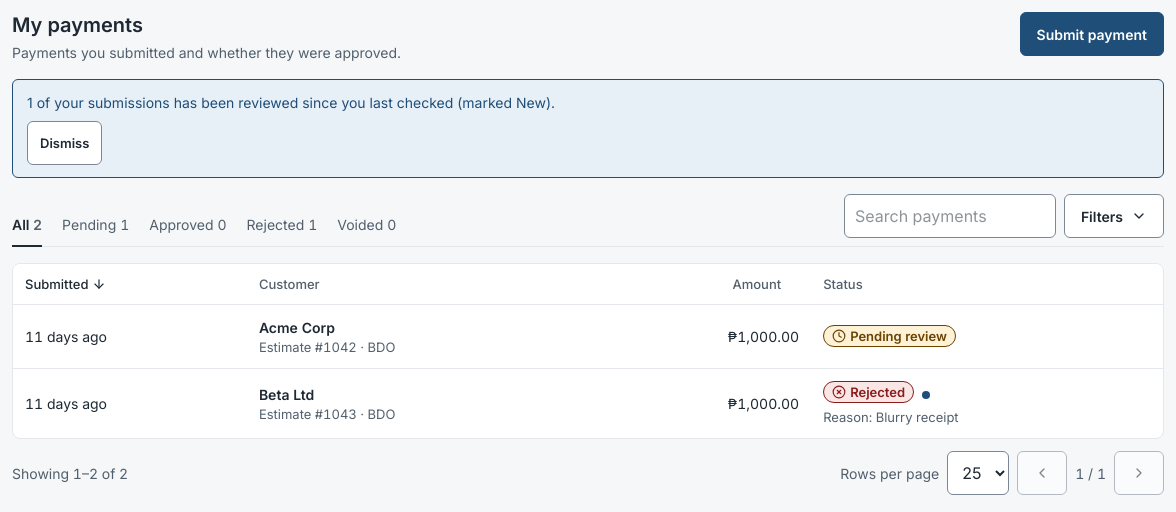
Test: MyPaymentsPage › filters by status tab and shows the rejection reason
Expected: the text "Acme Corp" is shown, x1=259 y1=319 x2=335 y2=336
Click the button "Rejected 1".
click(282, 225)  # box x1=247 y1=203 x2=317 y2=247
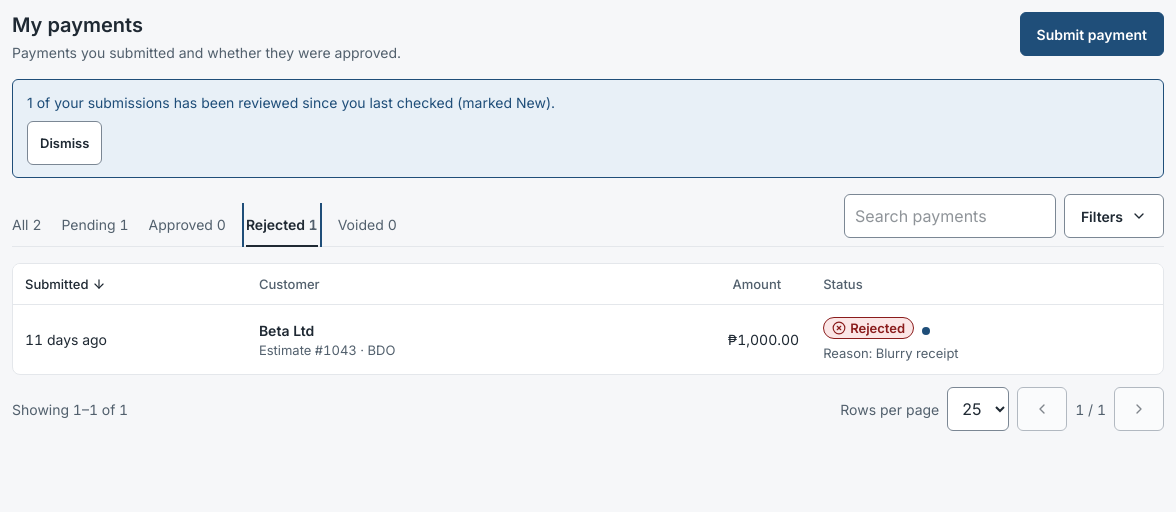
Expected: the text "Beta Ltd" is shown, x1=259 y1=322 x2=314 y2=339
Expected: the text "Acme Corp" is gone
